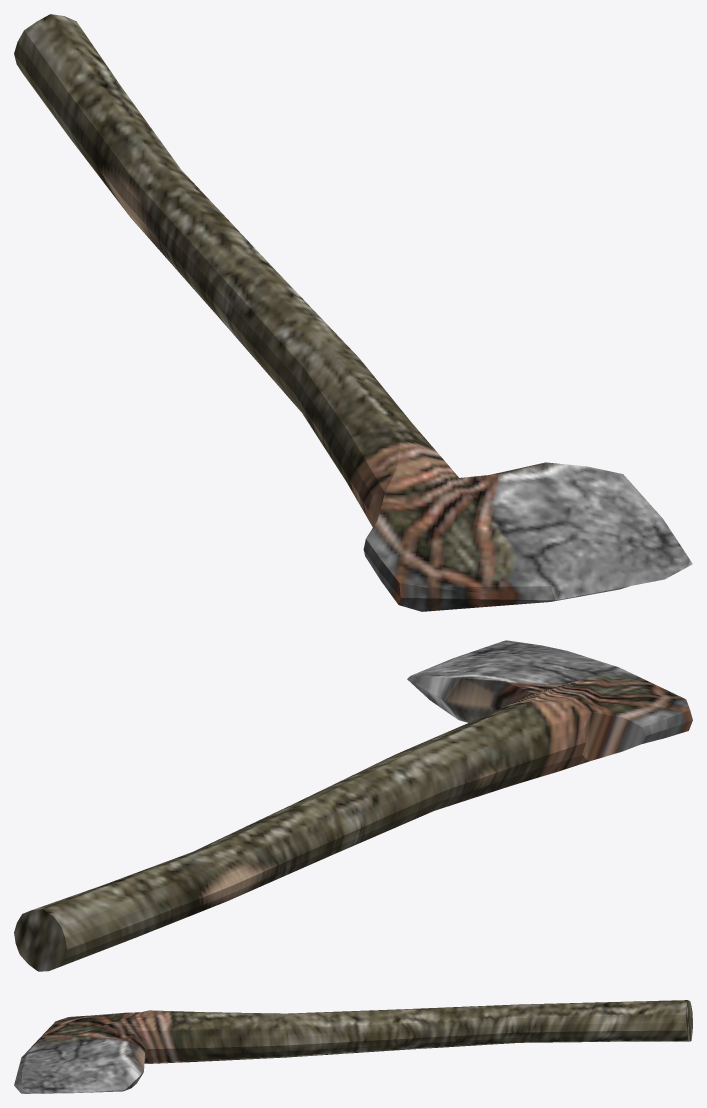
Rendered from Axe.fbx.
3 renders of one model, top to bottom at view 1: azimuth 30°, elevation 25°; view 2: azimuth 150°, elevation 25°; view 3: azimuth 270°, elevation 25°, orthographic. The views are drawn at different scales.
Parts seen in each view (by area): view 1: Cube; view 2: Cube; view 3: Cube.
Part boxes in pixels (x1=…): Cube: x1=14, y1=14, x2=692, y2=611; Cube: x1=14, y1=640, x2=692, y2=971; Cube: x1=14, y1=1000, x2=692, y2=1093.
Size of the model in its own units: 94.5 by 50.94 by 356.
